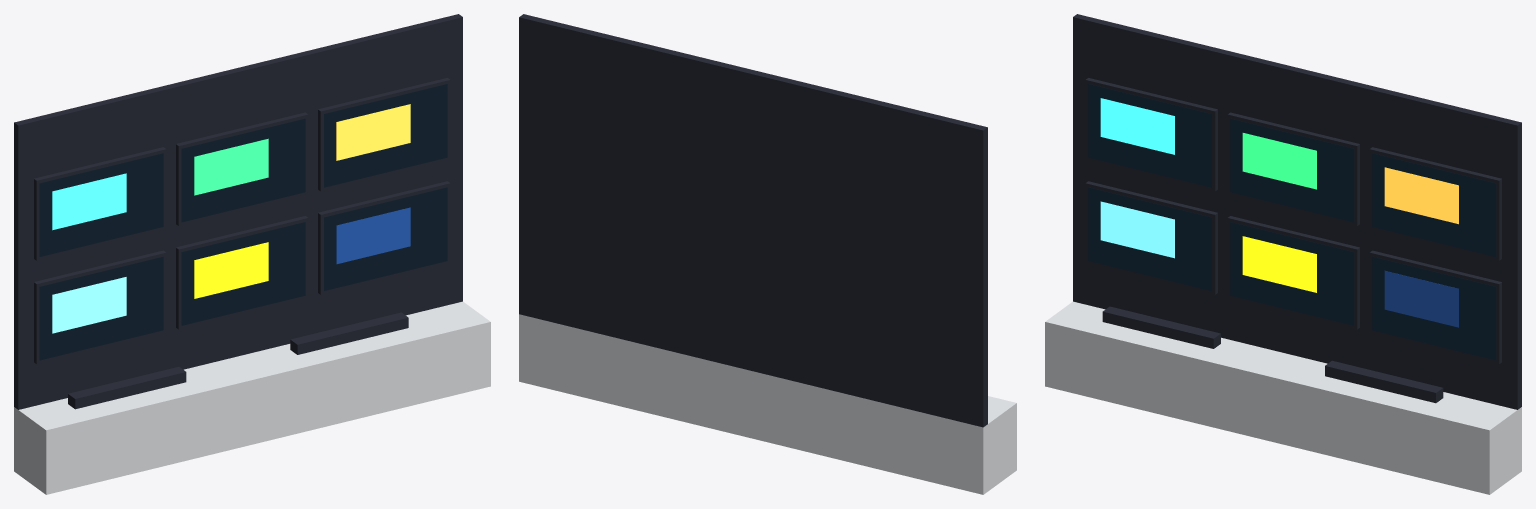
The model's file is mal-012.glb.
3 renders of one model, left to right at view 1: azimuth 30°, elevation 25°; view 2: azimuth 150°, elevation 25°; view 3: azimuth 330°, elevation 25°, orthographic. The views are drawn at different scales.
Parts seen in each view (by area): view 1: plastic_dark, white, monitor_screen, brand_electronics, trace_spo2, trace_ecg, pump_screen, trace_resp, xray_organic; view 2: plastic_dark, white; view 3: plastic_dark, white, monitor_screen, pump_screen, trace_spo2, brand_electronics, xray_organic, trace_ecg, trace_resp.
Part boxes in pixels (<box>): plastic_dark: <box>14,14,462,409</box>; white: <box>14,301,490,494</box>; monitor_screen: <box>39,84,447,360</box>; brand_electronics: <box>336,207,410,264</box>; trace_spo2: <box>52,173,126,230</box>; trace_ecg: <box>194,138,268,195</box>; pump_screen: <box>52,277,126,333</box>; trace_resp: <box>194,242,268,298</box>; xray_organic: <box>336,104,410,160</box>; plastic_dark: <box>519,14,987,427</box>; white: <box>519,314,1016,494</box>; plastic_dark: <box>1073,14,1521,409</box>; white: <box>1045,301,1521,494</box>; monitor_screen: <box>1088,84,1496,360</box>; pump_screen: <box>1100,201,1174,258</box>; trace_spo2: <box>1100,98,1174,154</box>; brand_electronics: <box>1384,271,1458,327</box>; xray_organic: <box>1384,167,1458,224</box>; trace_ecg: <box>1242,133,1316,189</box>; trace_resp: <box>1242,236,1316,292</box>.
Size of the model in its own units: 3.6 by 2.7 by 0.45.
